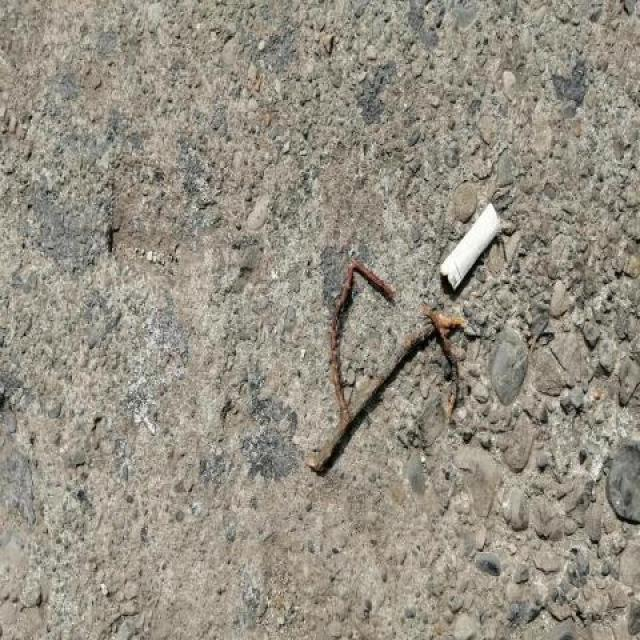non-organic waste: (435, 198, 506, 298)
